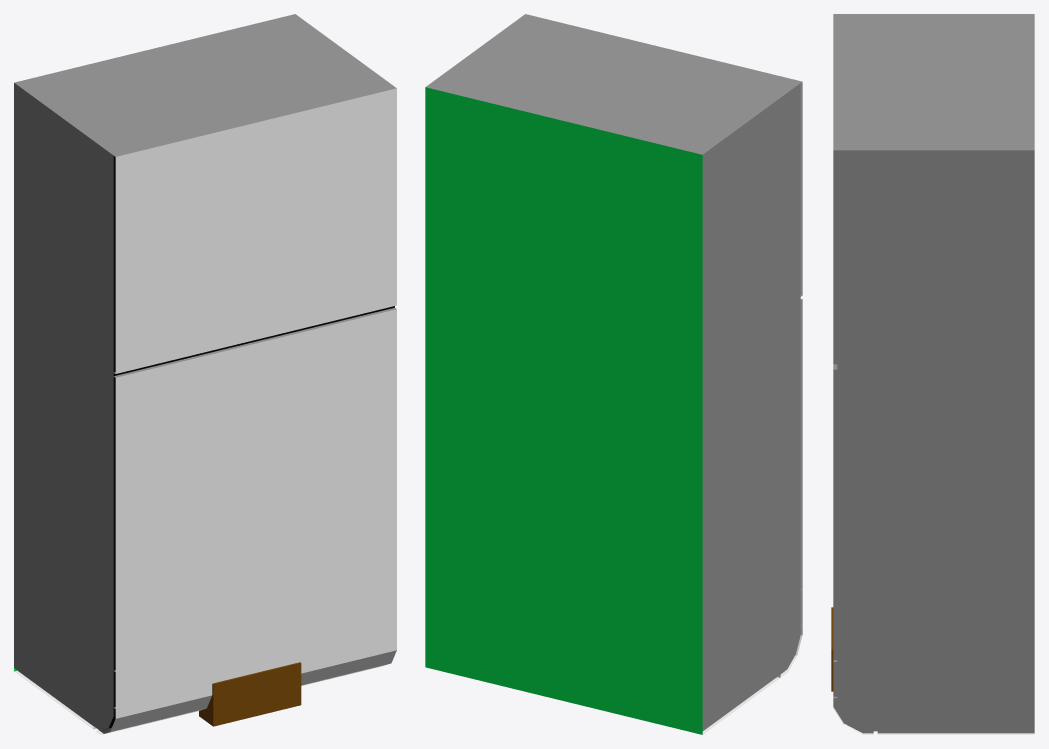
Rendered from mtr_diaoban_a.obj.
3 renders of one model, left to right at view 1: azimuth 30°, elevation 25°; view 2: azimuth 150°, elevation 25°; view 3: azimuth 270°, elevation 25°, orthographic.
Parts seen in each view (by area): view 1: center, l, r, dl_off; view 2: center, l, r; view 3: r, center, l.
Part boxes in pixels (box(x1,y1,x2,y2)): center: box(14, 14, 396, 734); l: box(14, 14, 396, 733); r: box(14, 14, 394, 731); dl_off: box(199, 662, 301, 726); center: box(425, 14, 802, 734); l: box(425, 14, 800, 730); r: box(425, 17, 802, 734); r: box(833, 14, 1034, 733); center: box(833, 14, 1034, 734); l: box(833, 14, 1034, 734).
Size of the model in its own units: 0.5 by 1.01 by 0.3156.
